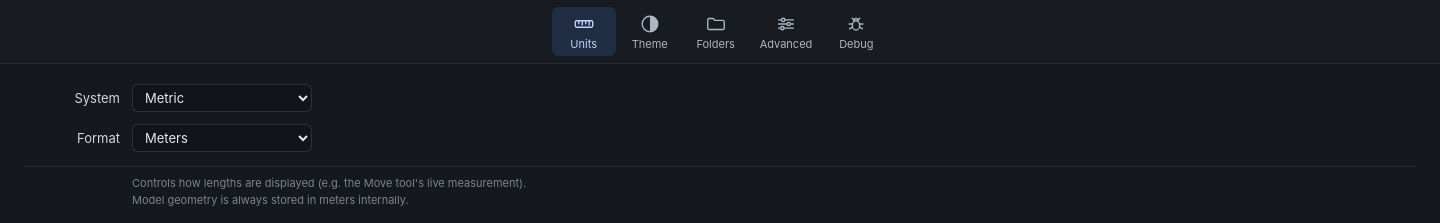
Test case: SettingsWindow › switches to the Folders pane when the Folders tab is clicked
This screenshot has width=1440, height=223.
Click the tab "Folders": (716, 32) [684, 7, 748, 56]
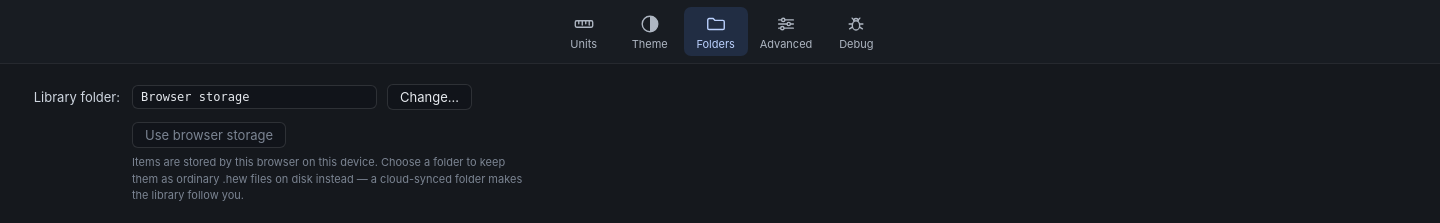
Check: the text "Library folder:" is shown, box [34, 89, 120, 105]
